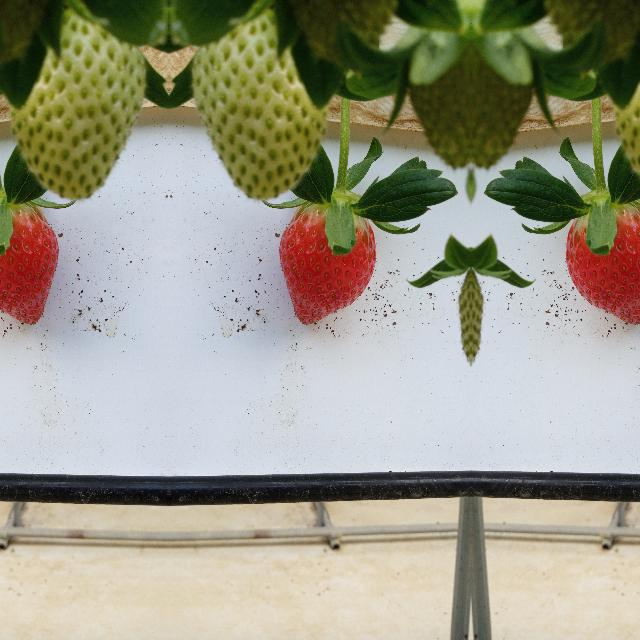Health_100: (278, 201, 377, 325), (564, 201, 640, 325), (0, 201, 58, 325)
Health_25: (187, 8, 323, 200), (13, 8, 149, 200)
